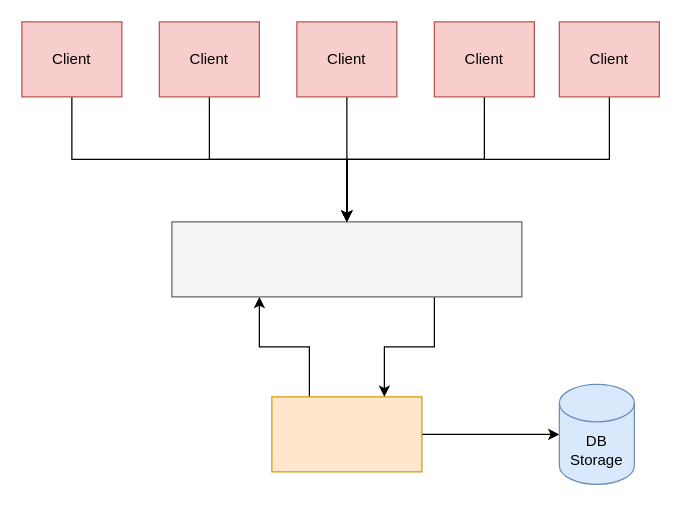
Some shapes in this 681 by 506 pixel diagram are drawn without their labels. Here are the shapes that lost their labels. From the top down, the centre of each, then its label:
At pixel 346 259: "Socket Gateway".
At pixel 346 434: "API Gateway".
